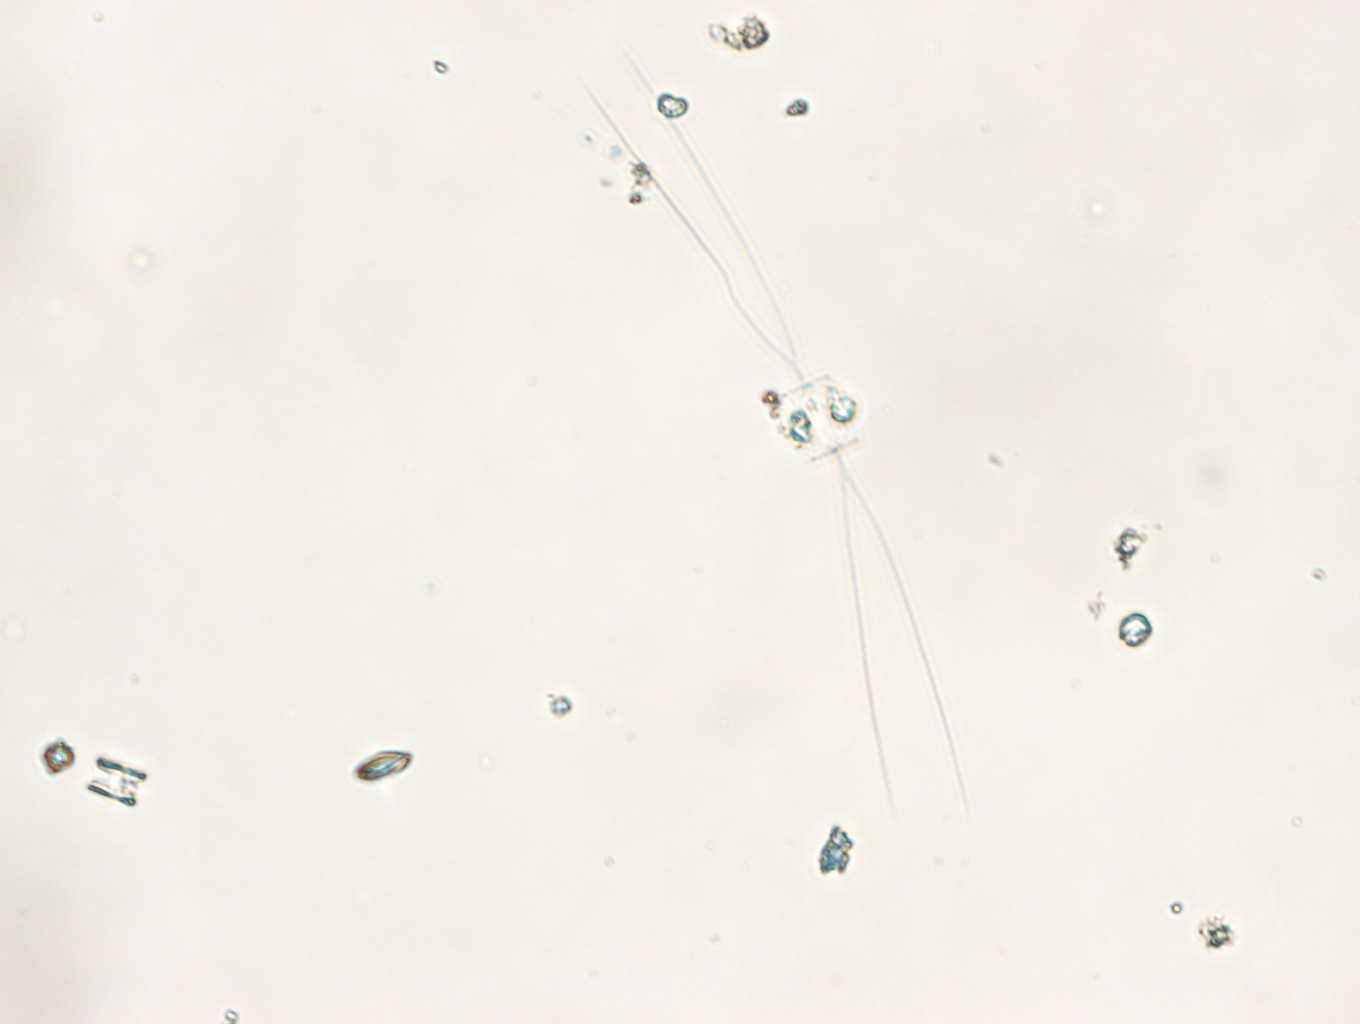chaetoceros: (579, 42, 964, 805)
